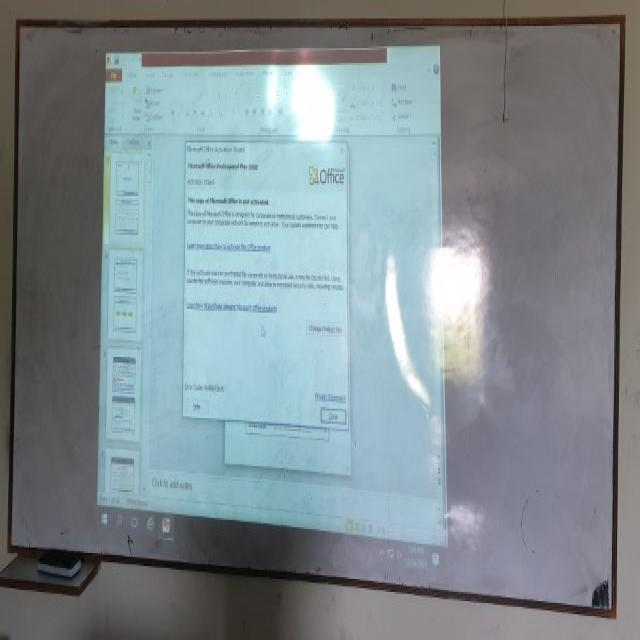Slide: (95, 49, 451, 577)
White-board: (12, 25, 625, 613)
